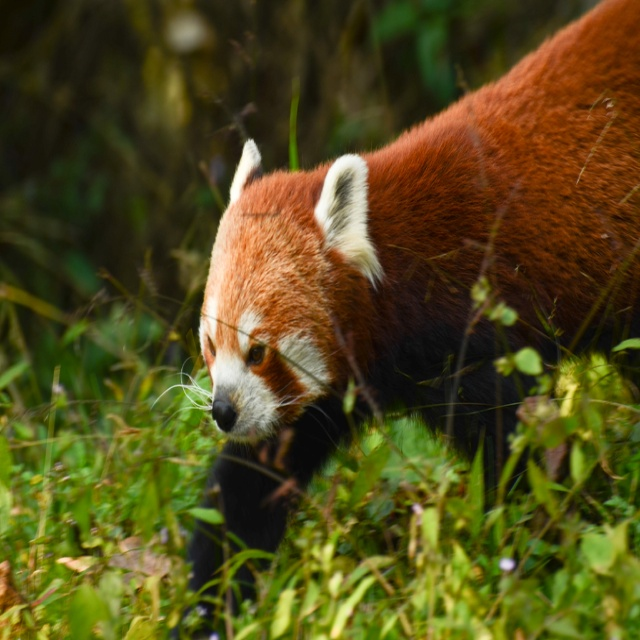Red panda: (149, 0, 640, 461)
